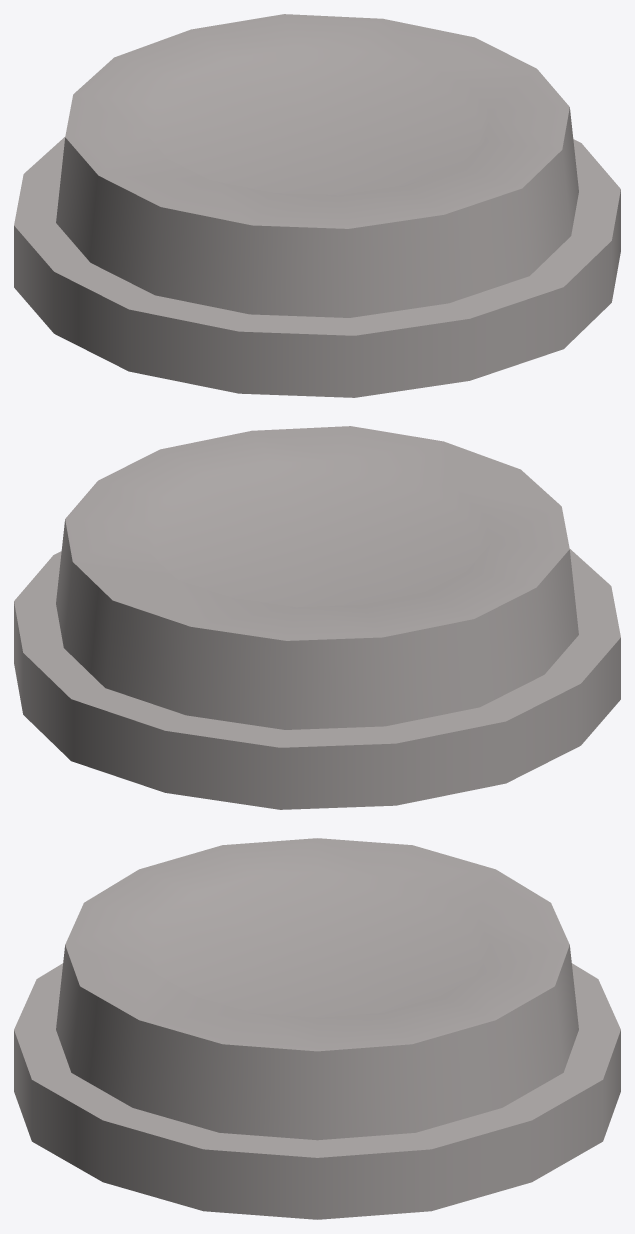
The model's file is SM_Prop_Cup_Coffee_Disposable_Lid_01.obj.
3 views of the same model, one above another, from view 1: azimuth 30°, elevation 25°; view 2: azimuth 150°, elevation 25°; view 3: azimuth 270°, elevation 25° (orthographic).
Parts seen in each view (by area): view 1: SM_Prop_Cup_Coffee_Disposable_Lid_01_Mat_SwatchOverlay_PolygonOf; view 2: SM_Prop_Cup_Coffee_Disposable_Lid_01_Mat_SwatchOverlay_PolygonOf; view 3: SM_Prop_Cup_Coffee_Disposable_Lid_01_Mat_SwatchOverlay_PolygonOf.
Boxes of the visible parts, bbox=[...] form: SM_Prop_Cup_Coffee_Disposable_Lid_01_Mat_SwatchOverlay_PolygonOf: bbox=[14, 14, 620, 397]; SM_Prop_Cup_Coffee_Disposable_Lid_01_Mat_SwatchOverlay_PolygonOf: bbox=[14, 426, 620, 809]; SM_Prop_Cup_Coffee_Disposable_Lid_01_Mat_SwatchOverlay_PolygonOf: bbox=[14, 838, 620, 1219].
Size of the model in its own units: 0.1798 by 0.048 by 0.1798.
1 material, 1 textured.
